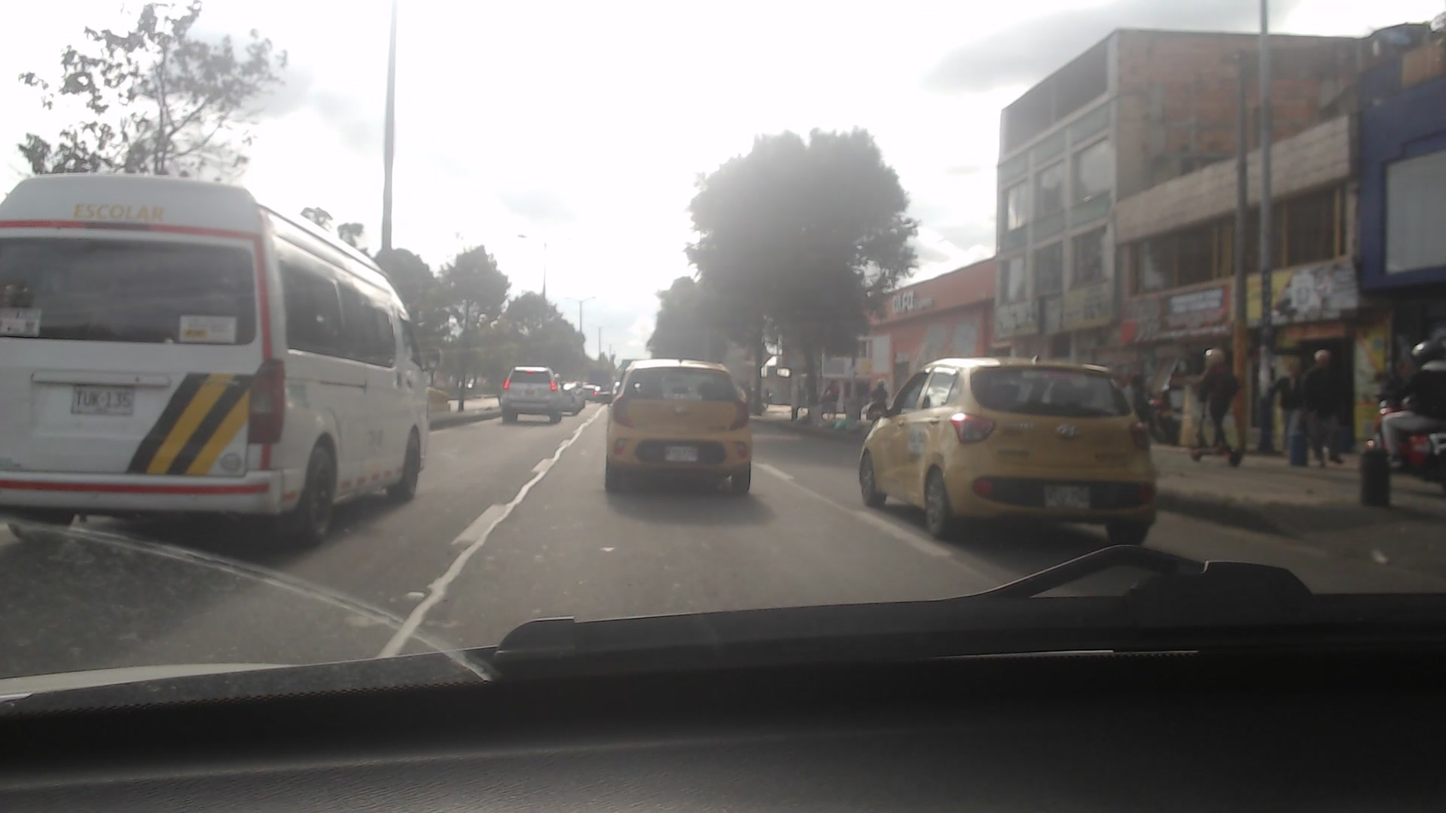bus: (0, 168, 433, 545)
car: (853, 353, 1163, 550), (604, 359, 761, 503), (501, 362, 562, 428)
person: (1302, 345, 1347, 475), (1188, 345, 1239, 455), (1265, 359, 1306, 458)
